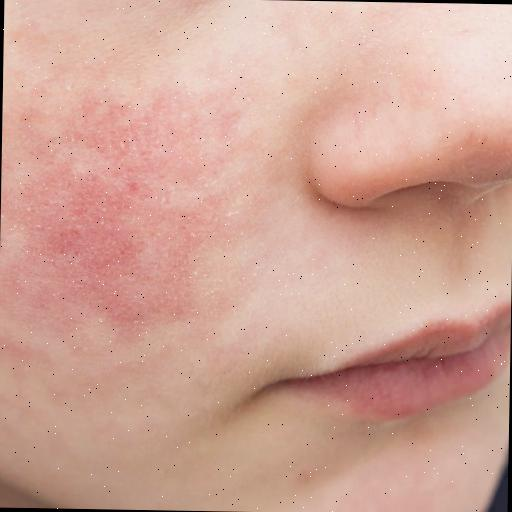Skin_Lesion: (48, 174, 132, 232), (82, 247, 146, 318), (110, 124, 176, 160), (162, 218, 192, 292), (175, 0, 223, 18)
